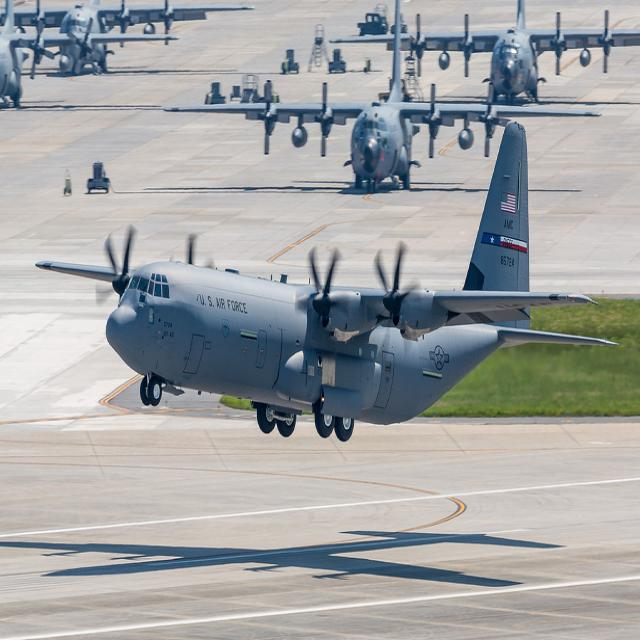MIL_Plane: (35, 119, 619, 441), (325, 17, 637, 90), (320, 1, 438, 194), (1, 1, 256, 75), (1, 17, 181, 92)
